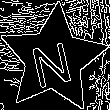N_N: (29, 30, 78, 88)
